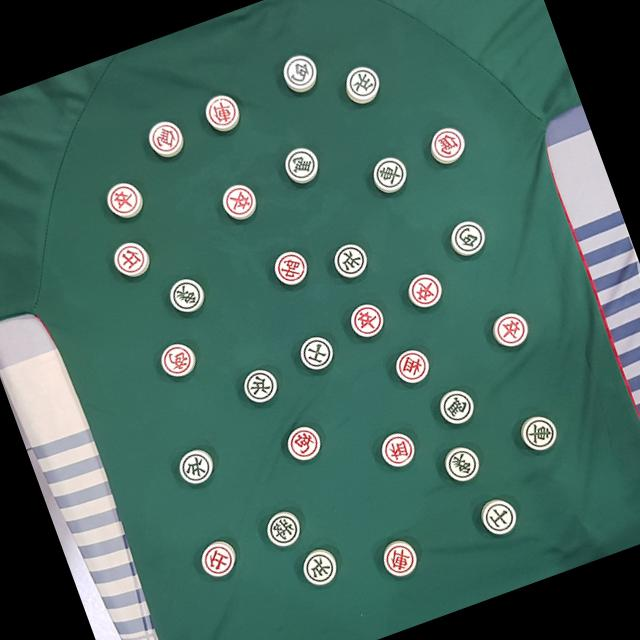black-advisor: (460, 485, 534, 559), (276, 324, 350, 398)
black-cannon: (429, 202, 504, 276), (262, 36, 336, 110)
black-chariot: (346, 142, 420, 216), (506, 394, 580, 468)
black-elephant: (422, 433, 497, 507), (151, 256, 225, 330)
black-general: (247, 492, 321, 566)
black-horse: (420, 369, 494, 444), (260, 132, 334, 206)
black-soldier: (322, 44, 397, 118), (218, 350, 292, 424), (280, 530, 354, 604), (312, 224, 386, 298), (160, 428, 233, 502)
intersection: (100, 228, 160, 292)
red-cannon: (261, 407, 335, 481), (137, 329, 210, 403)
red-chariot: (359, 524, 434, 598), (182, 76, 256, 150)
red-elephant: (376, 326, 450, 401), (359, 410, 433, 484)
red-general: (251, 232, 325, 306)
red-horse: (125, 107, 199, 181), (408, 110, 482, 184)
red-soldier: (326, 287, 401, 361), (385, 255, 459, 329), (472, 296, 546, 370), (86, 164, 160, 238), (205, 162, 279, 236)
